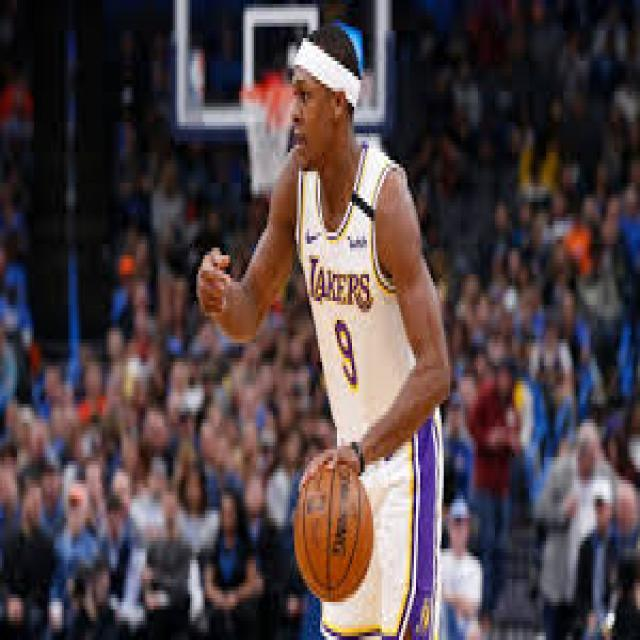rim: (296, 461, 374, 602)
